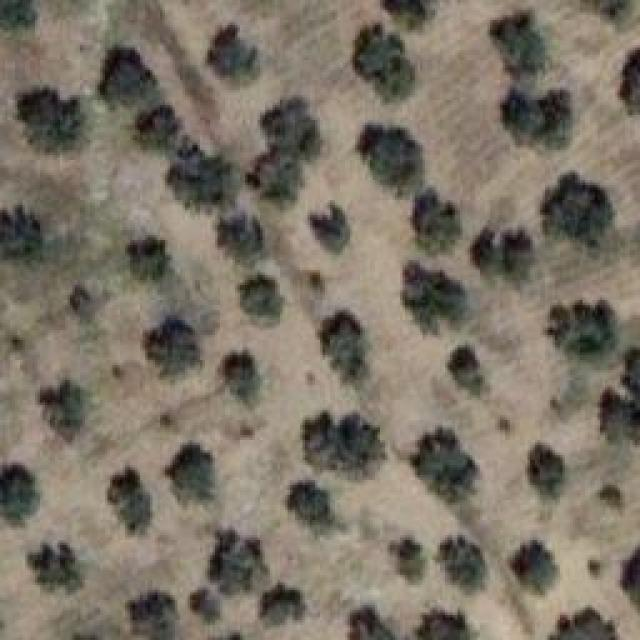Tree: (305, 413, 386, 476), (543, 173, 613, 245), (413, 428, 479, 504), (168, 140, 241, 208), (357, 125, 425, 197), (353, 25, 416, 101), (403, 263, 469, 334), (500, 88, 570, 146), (208, 530, 269, 595), (490, 13, 548, 80), (20, 88, 81, 151), (550, 300, 614, 358), (263, 95, 322, 154), (98, 45, 158, 102), (473, 230, 536, 282), (145, 317, 201, 375), (323, 310, 368, 380), (413, 188, 463, 250), (165, 442, 214, 502), (285, 480, 336, 536), (248, 153, 307, 201), (205, 25, 258, 78), (40, 380, 86, 441), (108, 468, 151, 533), (28, 543, 83, 591), (440, 535, 486, 588), (0, 463, 39, 525), (127, 590, 175, 640), (513, 540, 559, 592), (550, 607, 620, 640), (220, 350, 261, 405), (0, 205, 42, 257), (218, 210, 264, 255), (128, 235, 173, 280), (600, 393, 640, 443), (310, 203, 351, 251), (260, 583, 306, 625), (530, 443, 565, 496), (238, 275, 279, 320), (382, 0, 441, 31), (448, 348, 481, 396), (350, 607, 398, 640), (390, 537, 422, 582), (0, 3, 39, 39), (140, 105, 181, 137), (620, 48, 640, 113), (425, 612, 470, 640), (68, 288, 104, 323), (622, 548, 640, 608), (190, 587, 220, 622), (617, 346, 640, 388), (305, 268, 333, 298), (590, 0, 630, 19), (600, 485, 623, 510), (588, 560, 603, 578)
